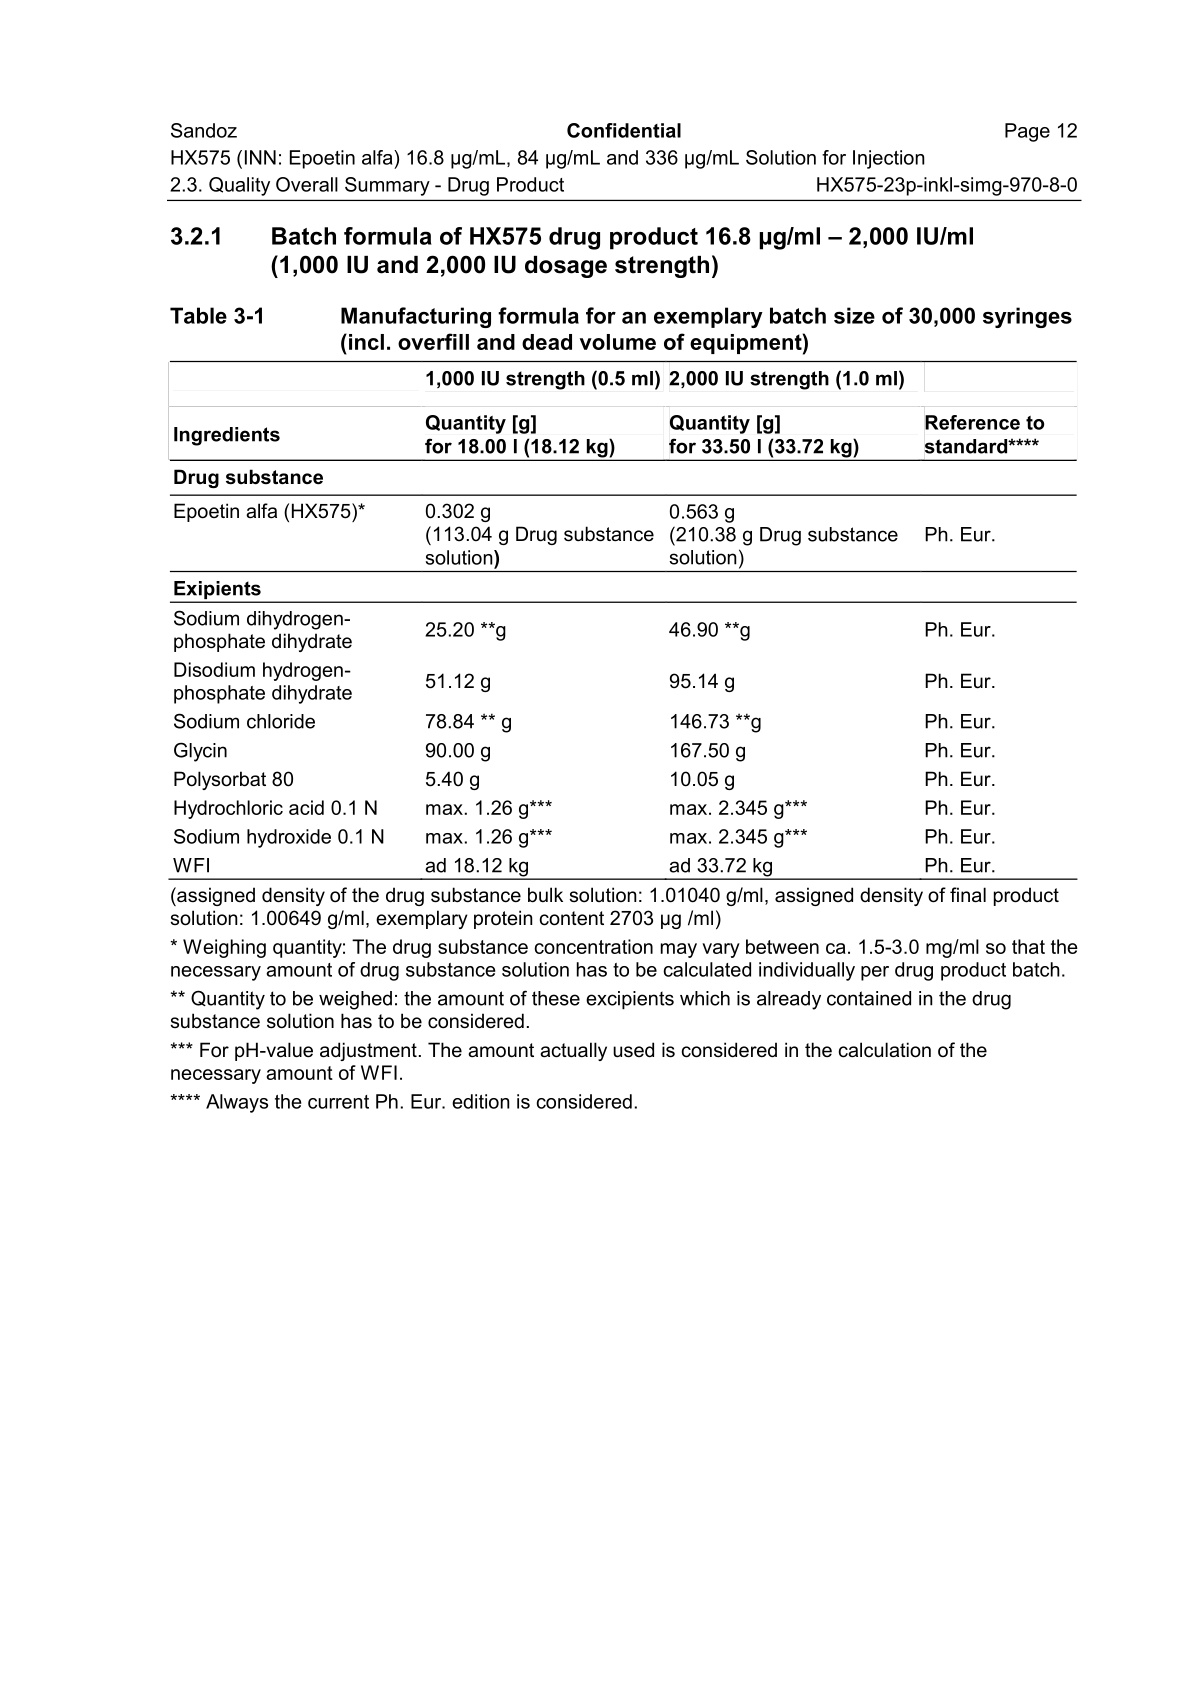partial_lined_merged_cells: (168, 359, 1078, 883)
